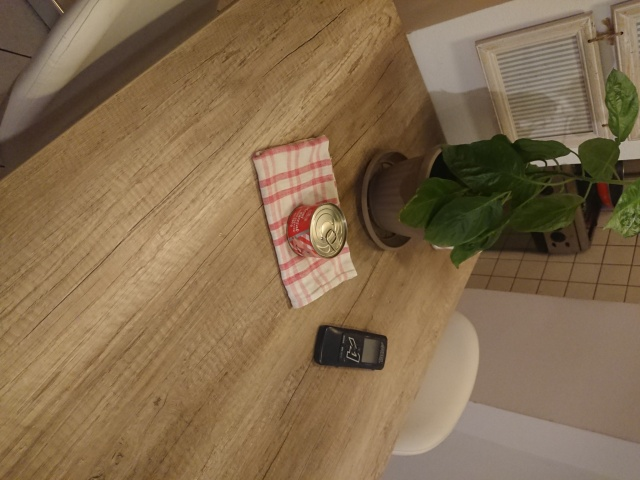Podravka Luncheon Meat 150g: (284, 200, 350, 260)
